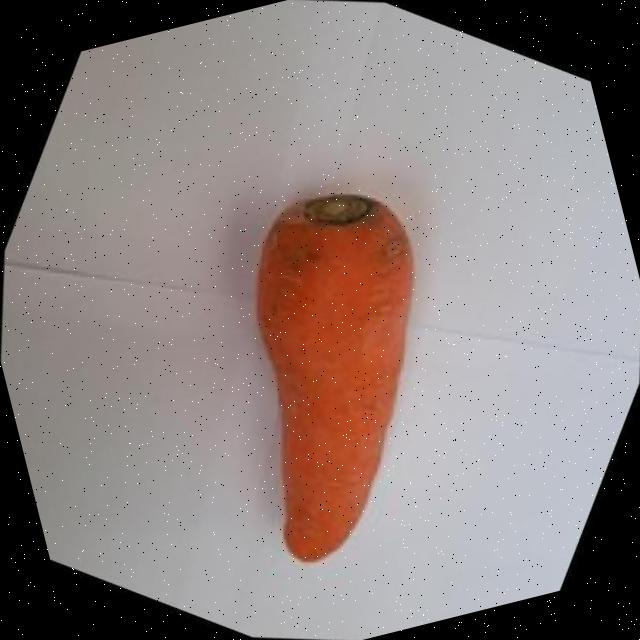carrot: (256, 193, 412, 560)
